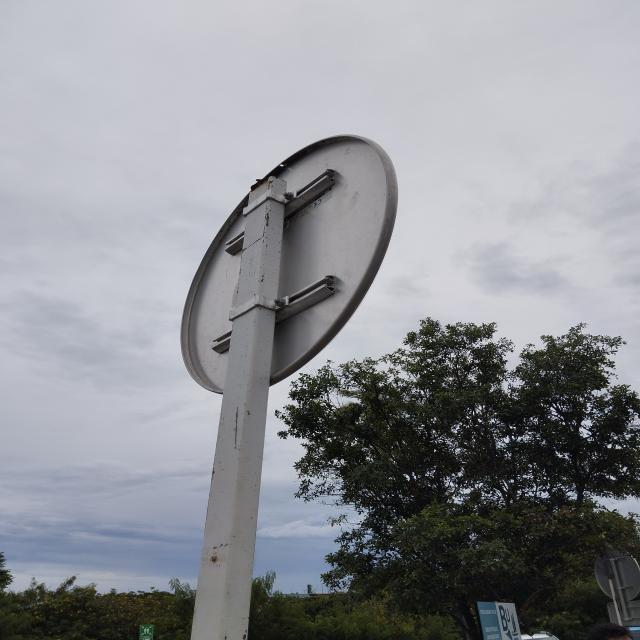Panneau: (181, 129, 397, 395)
